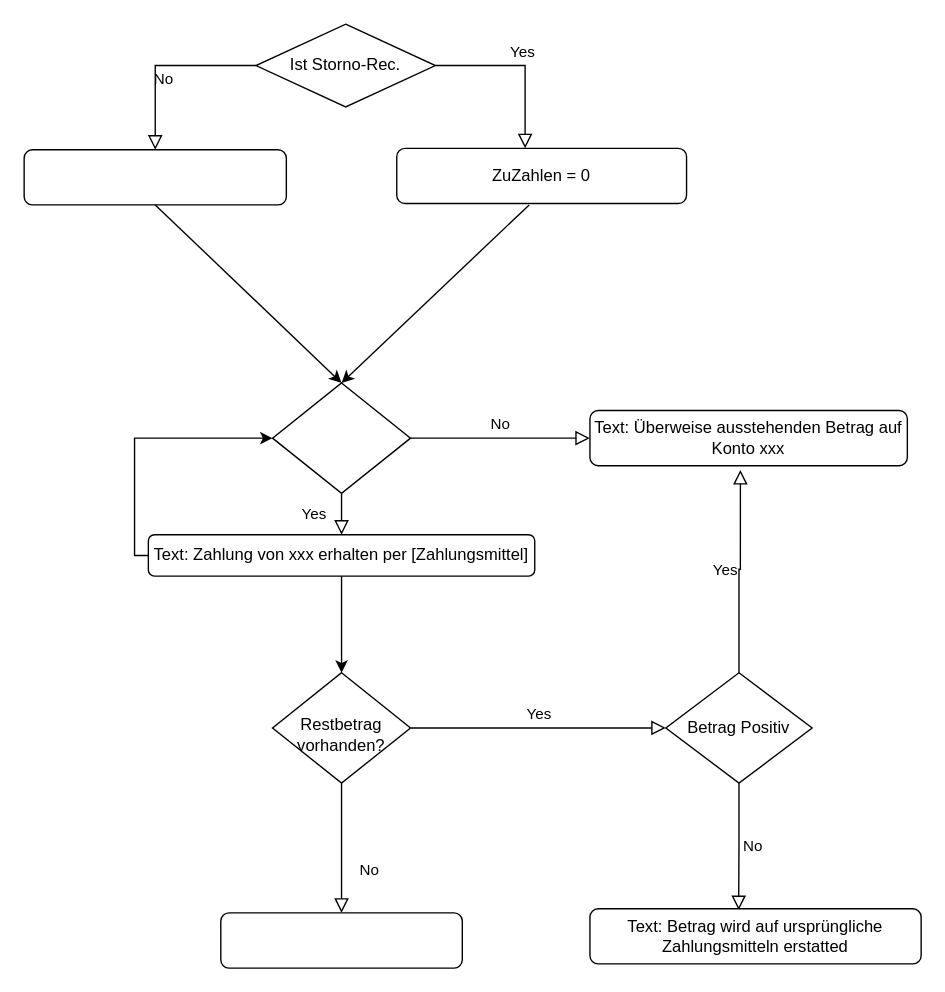
Some shapes in this 945 by 992 pixel diagram are drawn without their labels. Here are the shapes that lost their labels. From the top down, the box of each, then its label:
(23, 148, 286, 205): ZuZahlen = Summe der Items
(271, 382, 411, 493): Zahlungen vorhanden
(219, 911, 462, 968): Text: Rechnung is balanced
